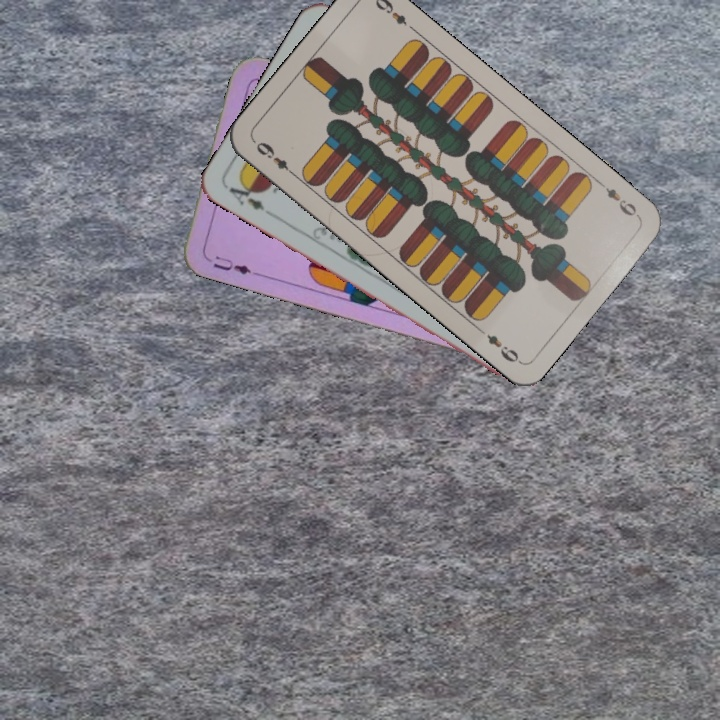E9: (594, 176, 642, 220), (250, 137, 299, 180)
EA: (225, 176, 276, 219)
EU: (202, 251, 260, 278)
